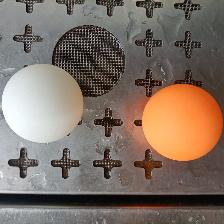WhiteBall: (1, 63, 83, 143)
YellowBall: (141, 83, 222, 161)
